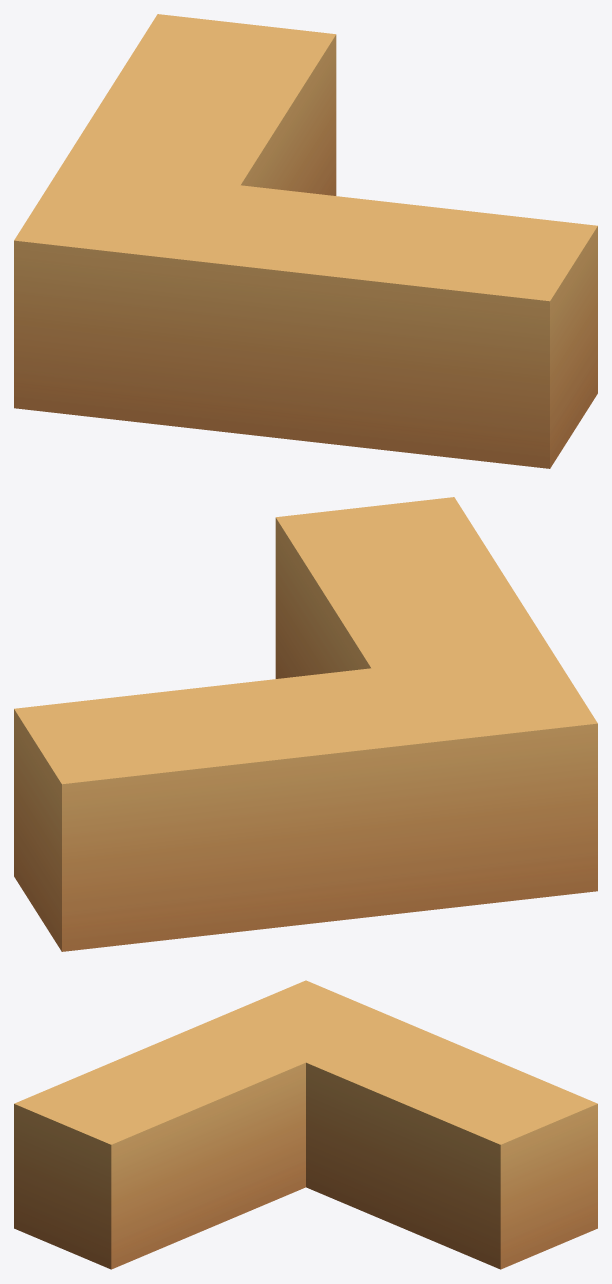
The model's file is kenney-factory-arrow-basic.glb.
The picture shows the model from 3 angles, top to bottom: view 1: azimuth 30°, elevation 25°; view 2: azimuth 150°, elevation 25°; view 3: azimuth 270°, elevation 25°; orthographic projection. The views are drawn at different scales.
Parts seen in each view (by area): view 1: arrow-basic; view 2: arrow-basic; view 3: arrow-basic.
Part boxes in pixels (x1,y1,x2,y2): arrow-basic: (14, 14, 597, 468); arrow-basic: (14, 497, 597, 951); arrow-basic: (14, 980, 597, 1269).
Bounding box in the file's own units: 0.5657 × 0.2 × 0.8485.
1 material, 1 textured.
